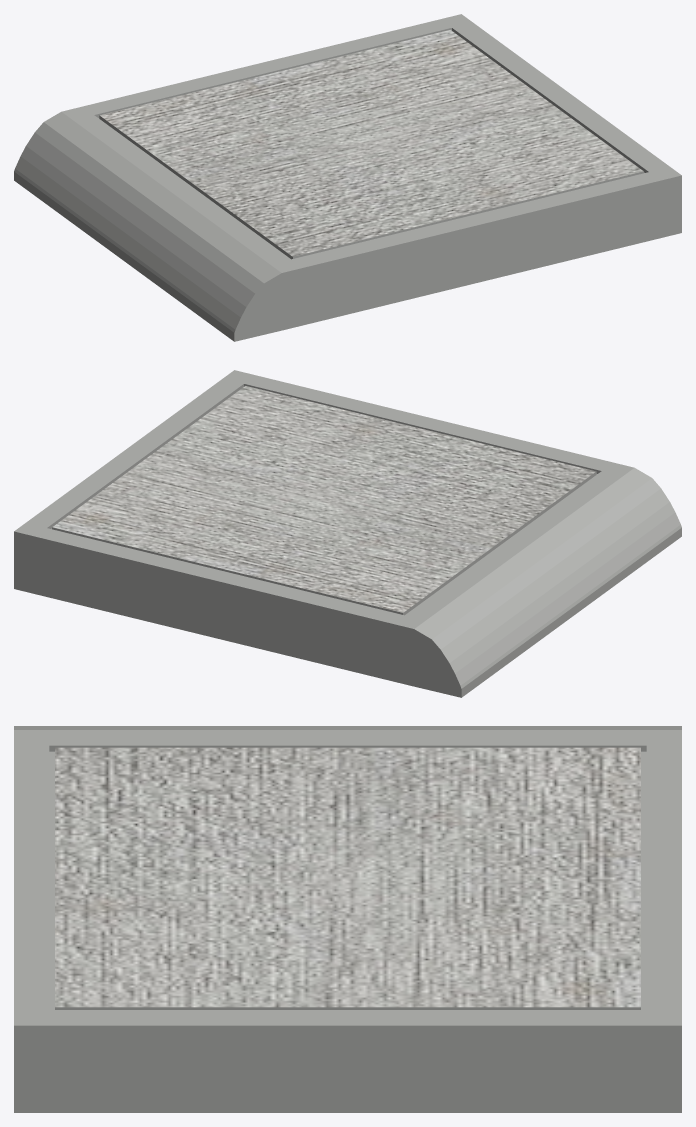
The model's file is sidewalkCurb.glb.
The picture shows the model from 3 angles, top to bottom: view 1: azimuth 30°, elevation 25°; view 2: azimuth 150°, elevation 25°; view 3: azimuth 270°, elevation 25°; orthographic projection. The views are drawn at different scales.
Visible parts, largest first — view 1: Cube, Cube.001; view 2: Cube, Cube.001; view 3: Cube.001, Cube.
Boxes of the visible parts, x1=… form: Cube: x1=14, y1=14, x2=681, y2=341; Cube.001: x1=100, y1=30, x2=643, y2=256; Cube: x1=14, y1=370, x2=681, y2=697; Cube.001: x1=52, y1=386, x2=595, y2=612; Cube.001: x1=55, y1=747, x2=640, y2=1007; Cube: x1=14, y1=726, x2=681, y2=1112.
Size of the model in its own units: 9.89 by 1.22 by 8.44.
Materials: 2 (2 with a texture image).
